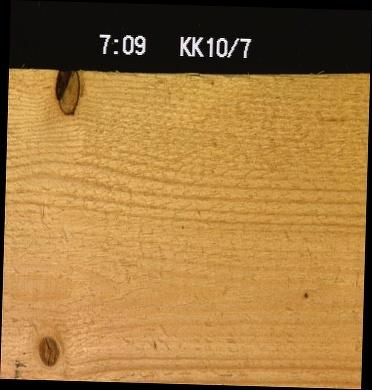small_knot: (272, 255, 318, 301)
sound_knot: (36, 334, 60, 366)
